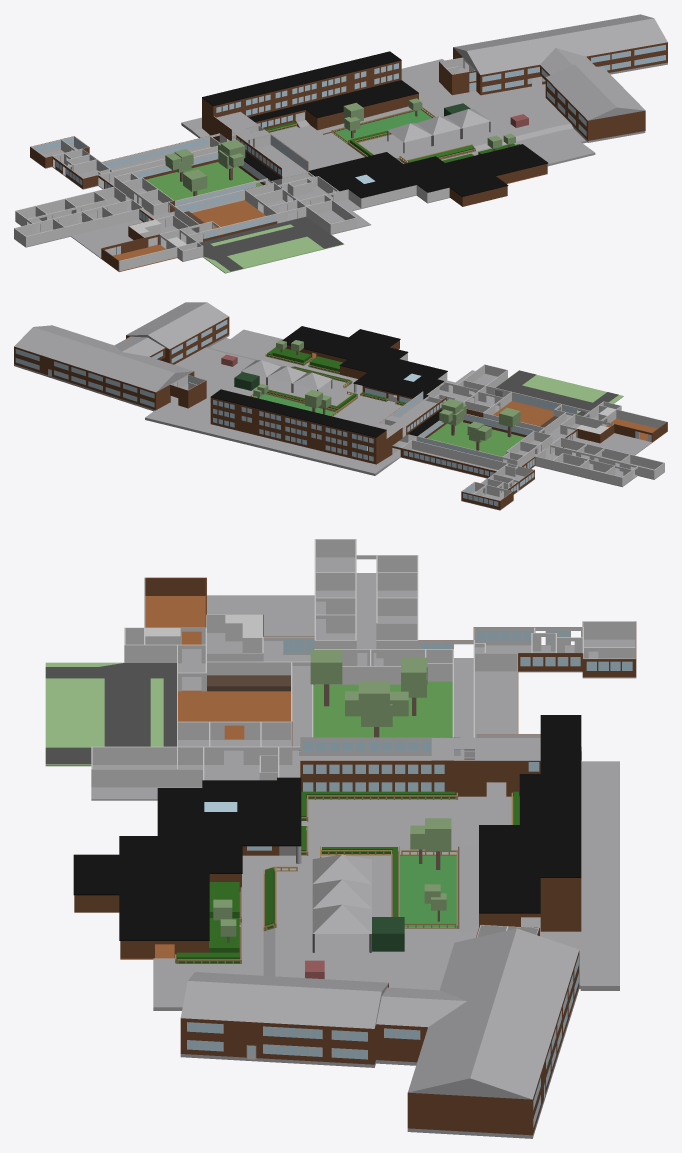
The model's file is map_collision.gltf.
The picture shows the model from 3 angles, top to bottom: view 1: azimuth 30°, elevation 25°; view 2: azimuth 150°, elevation 25°; view 3: azimuth 270°, elevation 25°; orthographic projection. The views are drawn at different scales.
Visible parts, largest first — view 1: Part (×47); view 2: Part (×39); view 3: Part (×60).
Boxes of the visible parts, x1,y1,x2,y2 form: Part (×47): (15,14,667,273); Part (×39): (14,302,667,487); Part (×60): (45,573,635,1135).
Bounding box in the file's own units: 1049 × 60.69 × 450.
